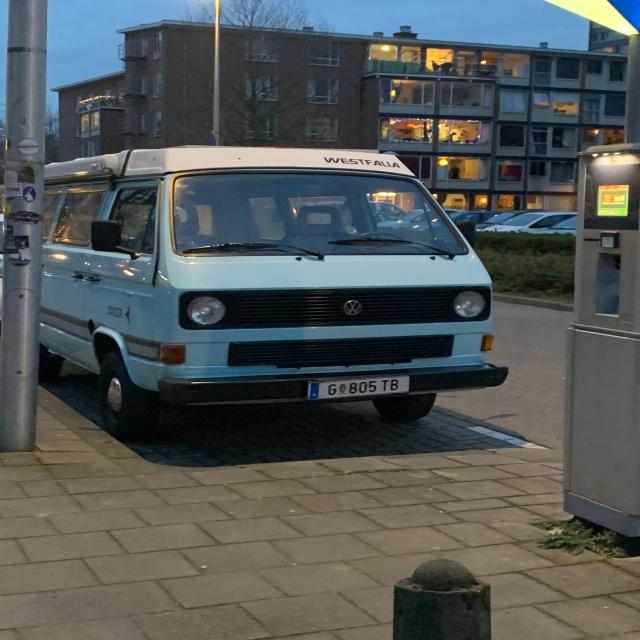plate: (305, 373, 412, 401)
